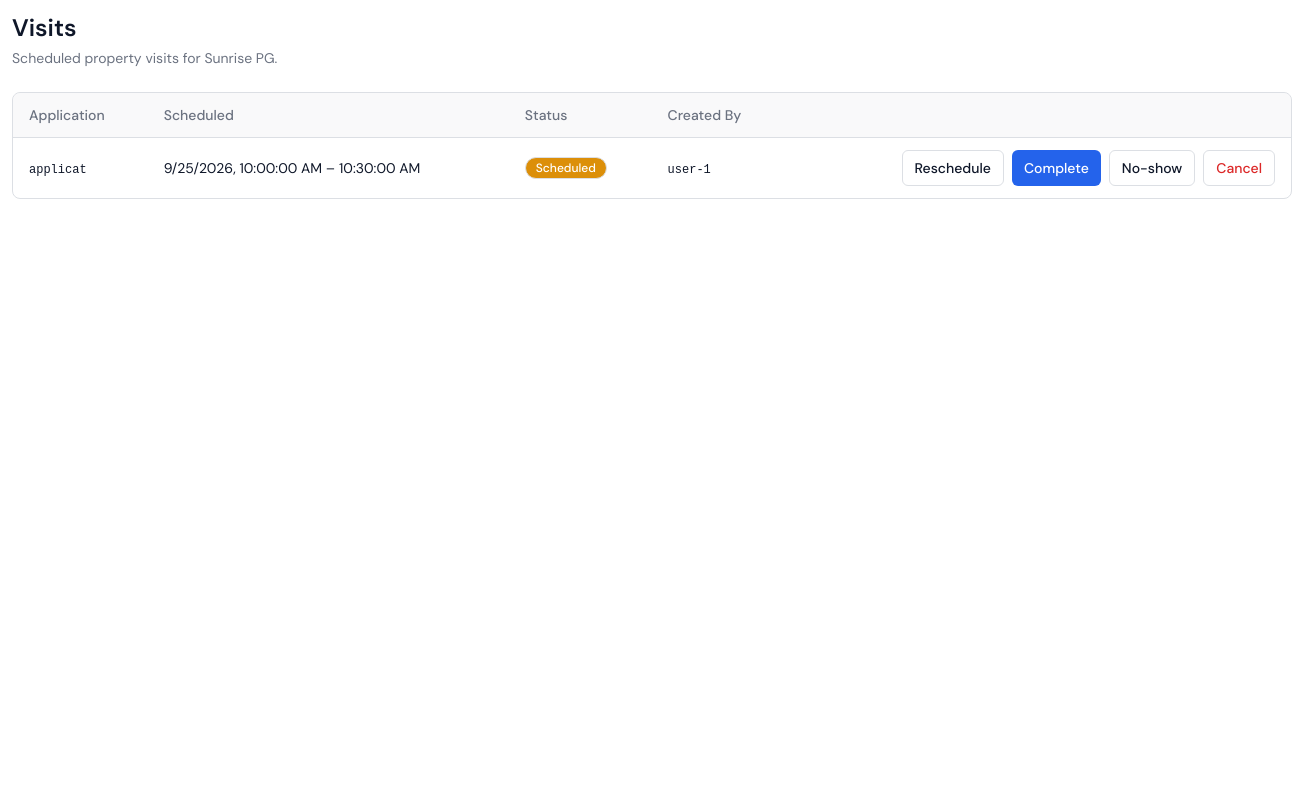
VisitsListPage › marks a visit complete and updates the row status without waiting on a refetch
Click the button "Complete".
click(1056, 168)  # box top-left (1012, 150), bottom-right (1101, 186)
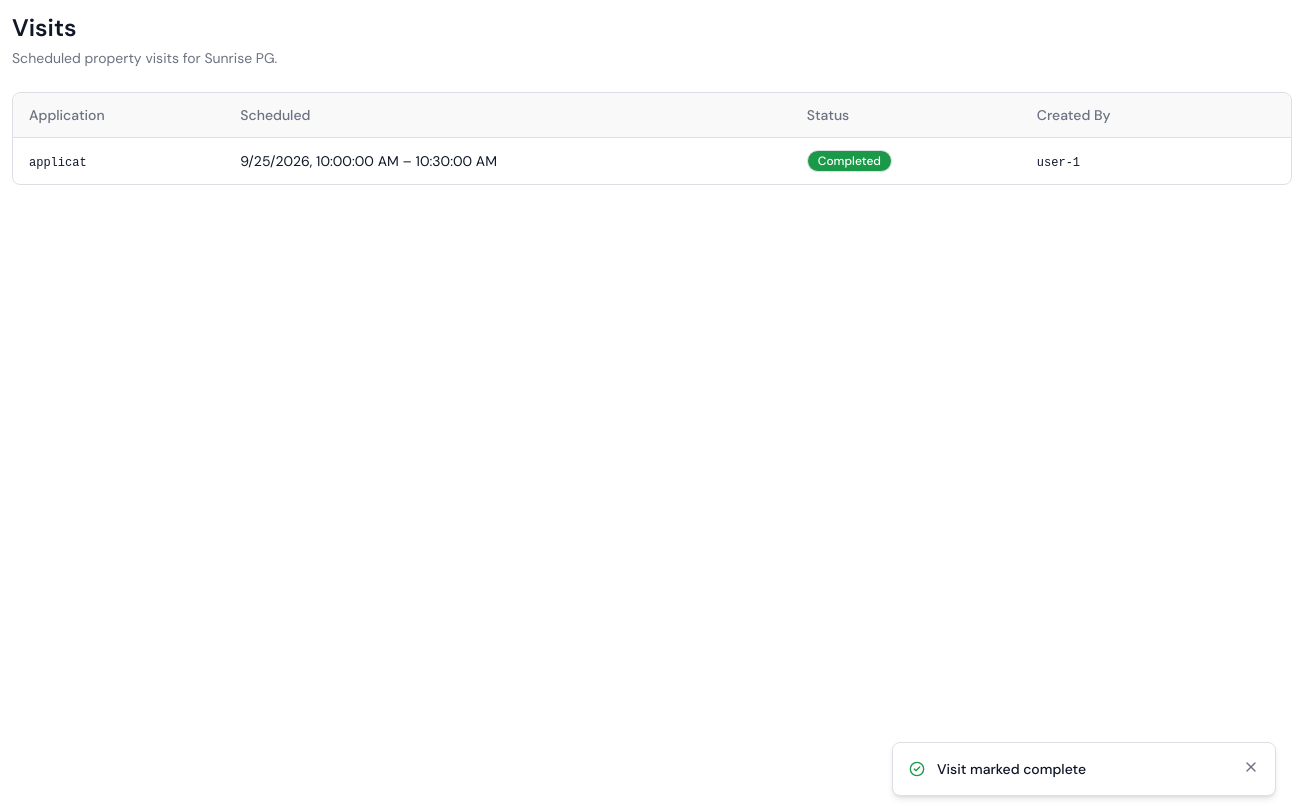
Check: the text "Visit marked complete" is shown, box top-left (937, 760), bottom-right (1086, 778)
Check: the text "Completed" is shown, box top-left (807, 150), bottom-right (892, 172)
